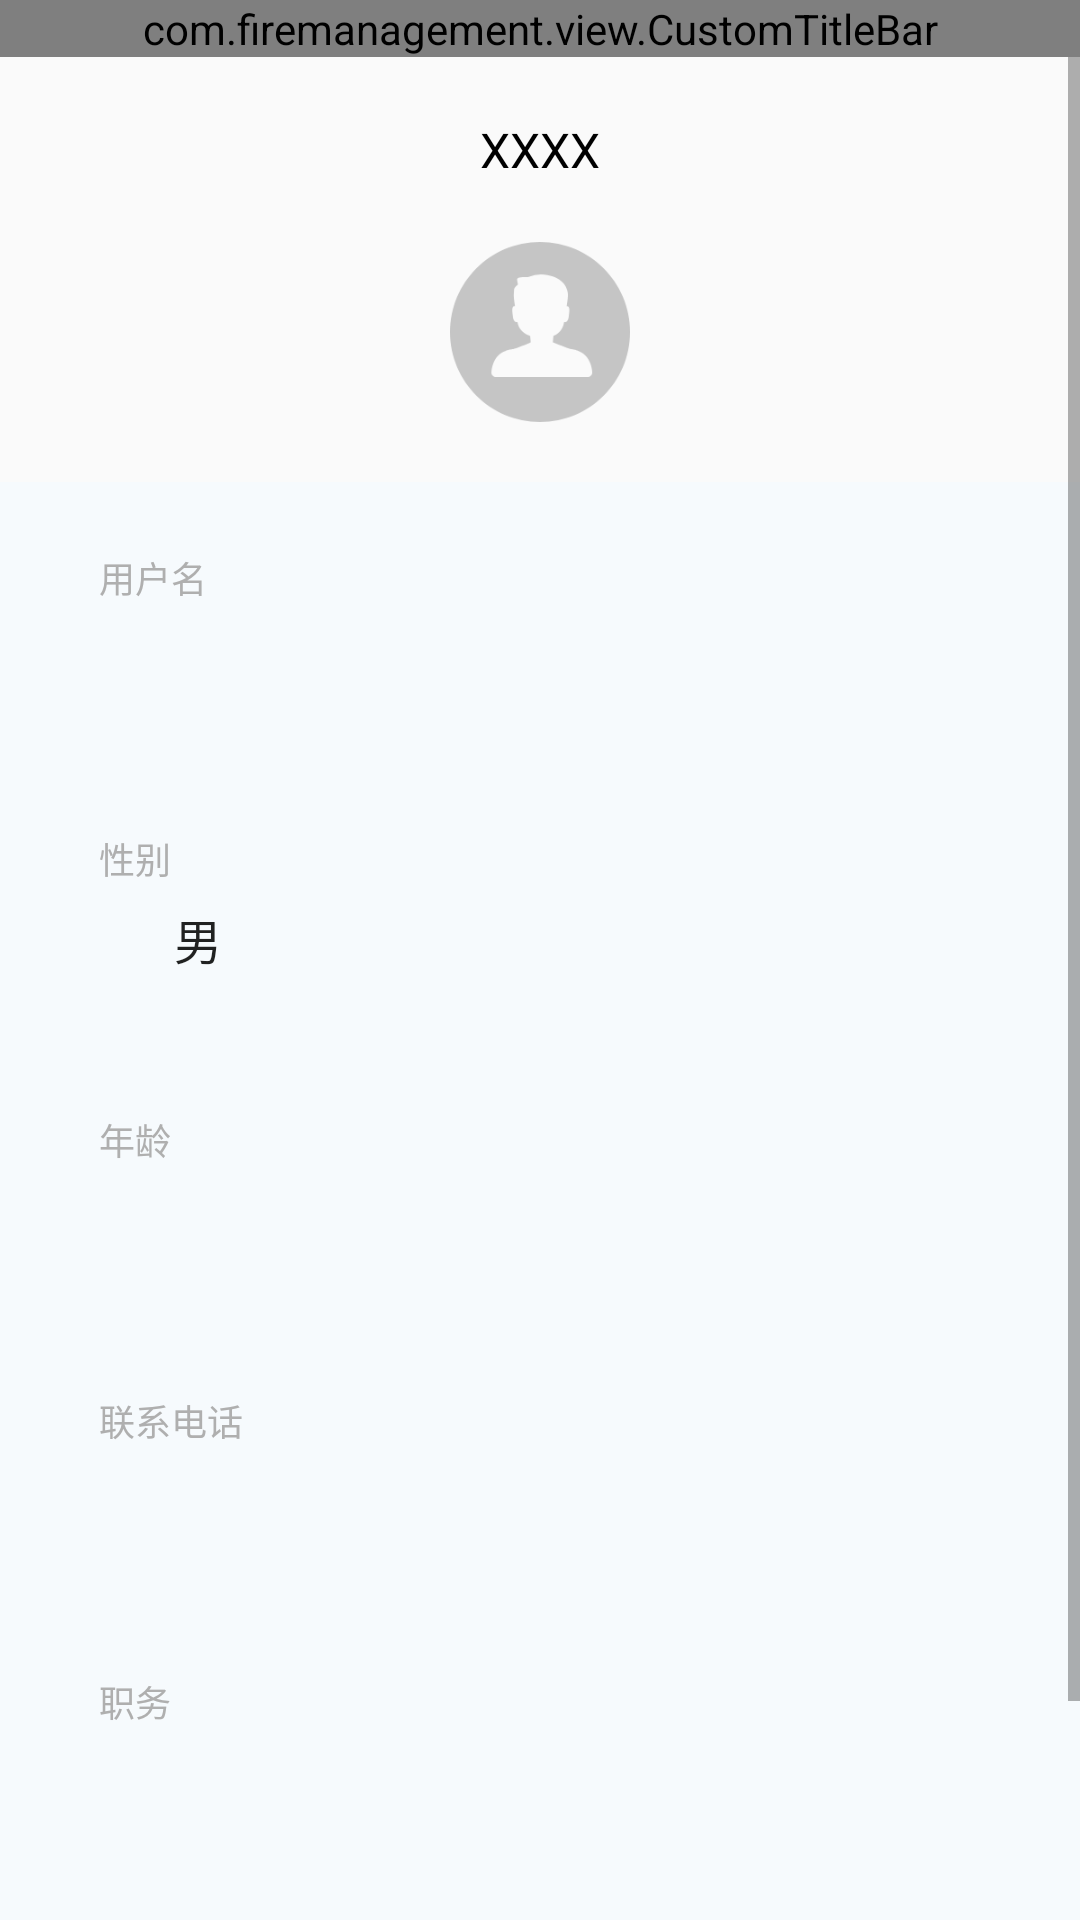

Locate icon controls on the screen. Image size 1080x1920, boxes as (x1=x1, y1=y1, x2=x2, y2=y2).
touxiang: (x1=450, y1=242, x2=630, y2=422)
